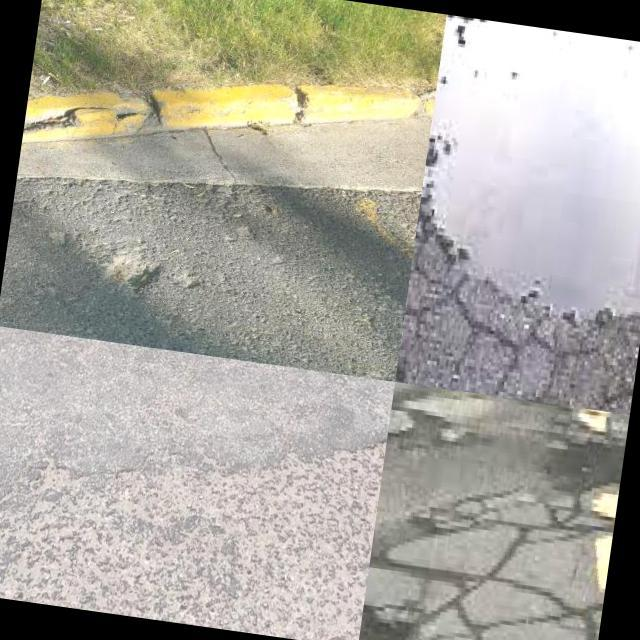Pothole: (428, 19, 640, 320), (111, 250, 163, 294)
